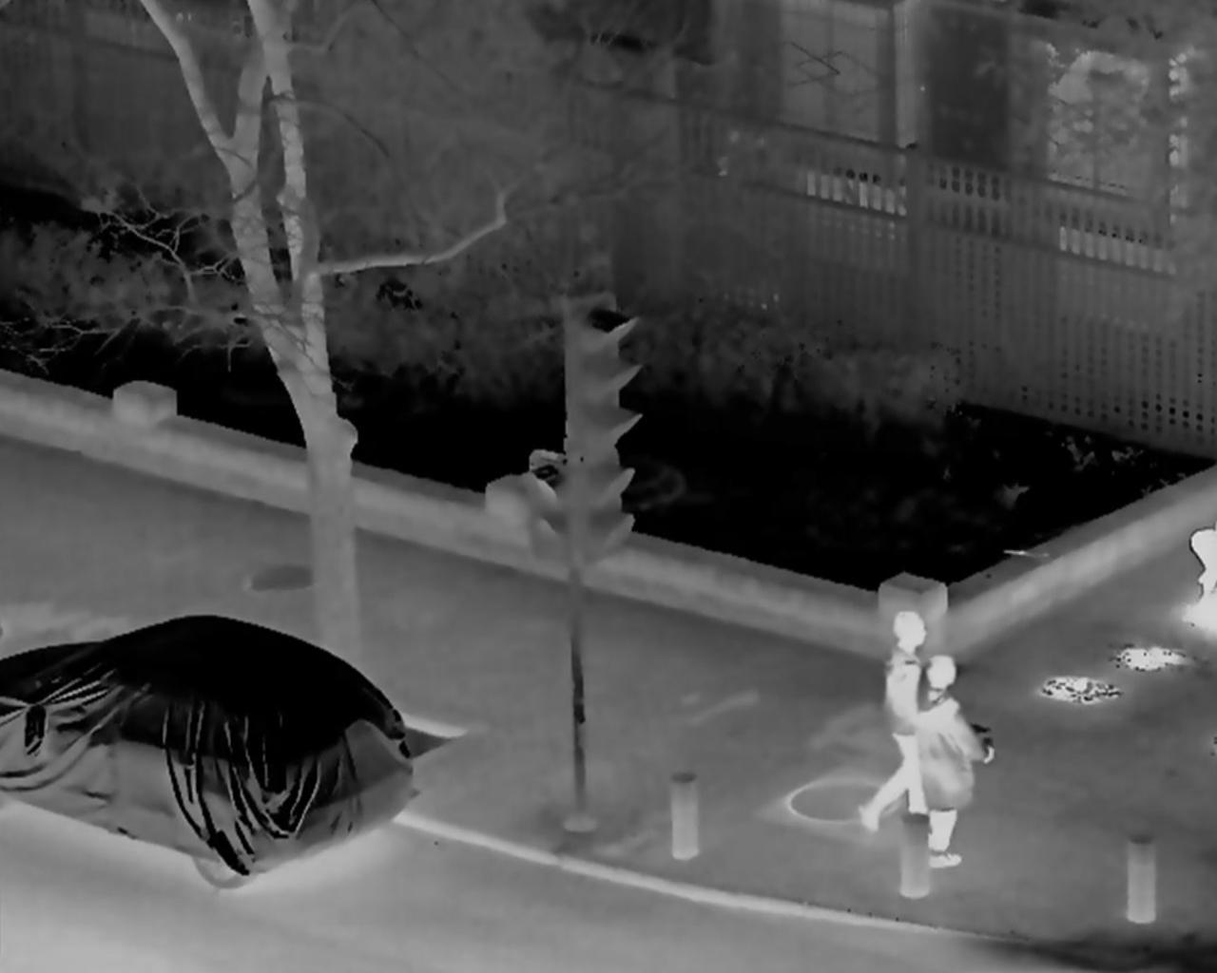person: (910, 658, 1000, 872), (861, 609, 937, 830)
